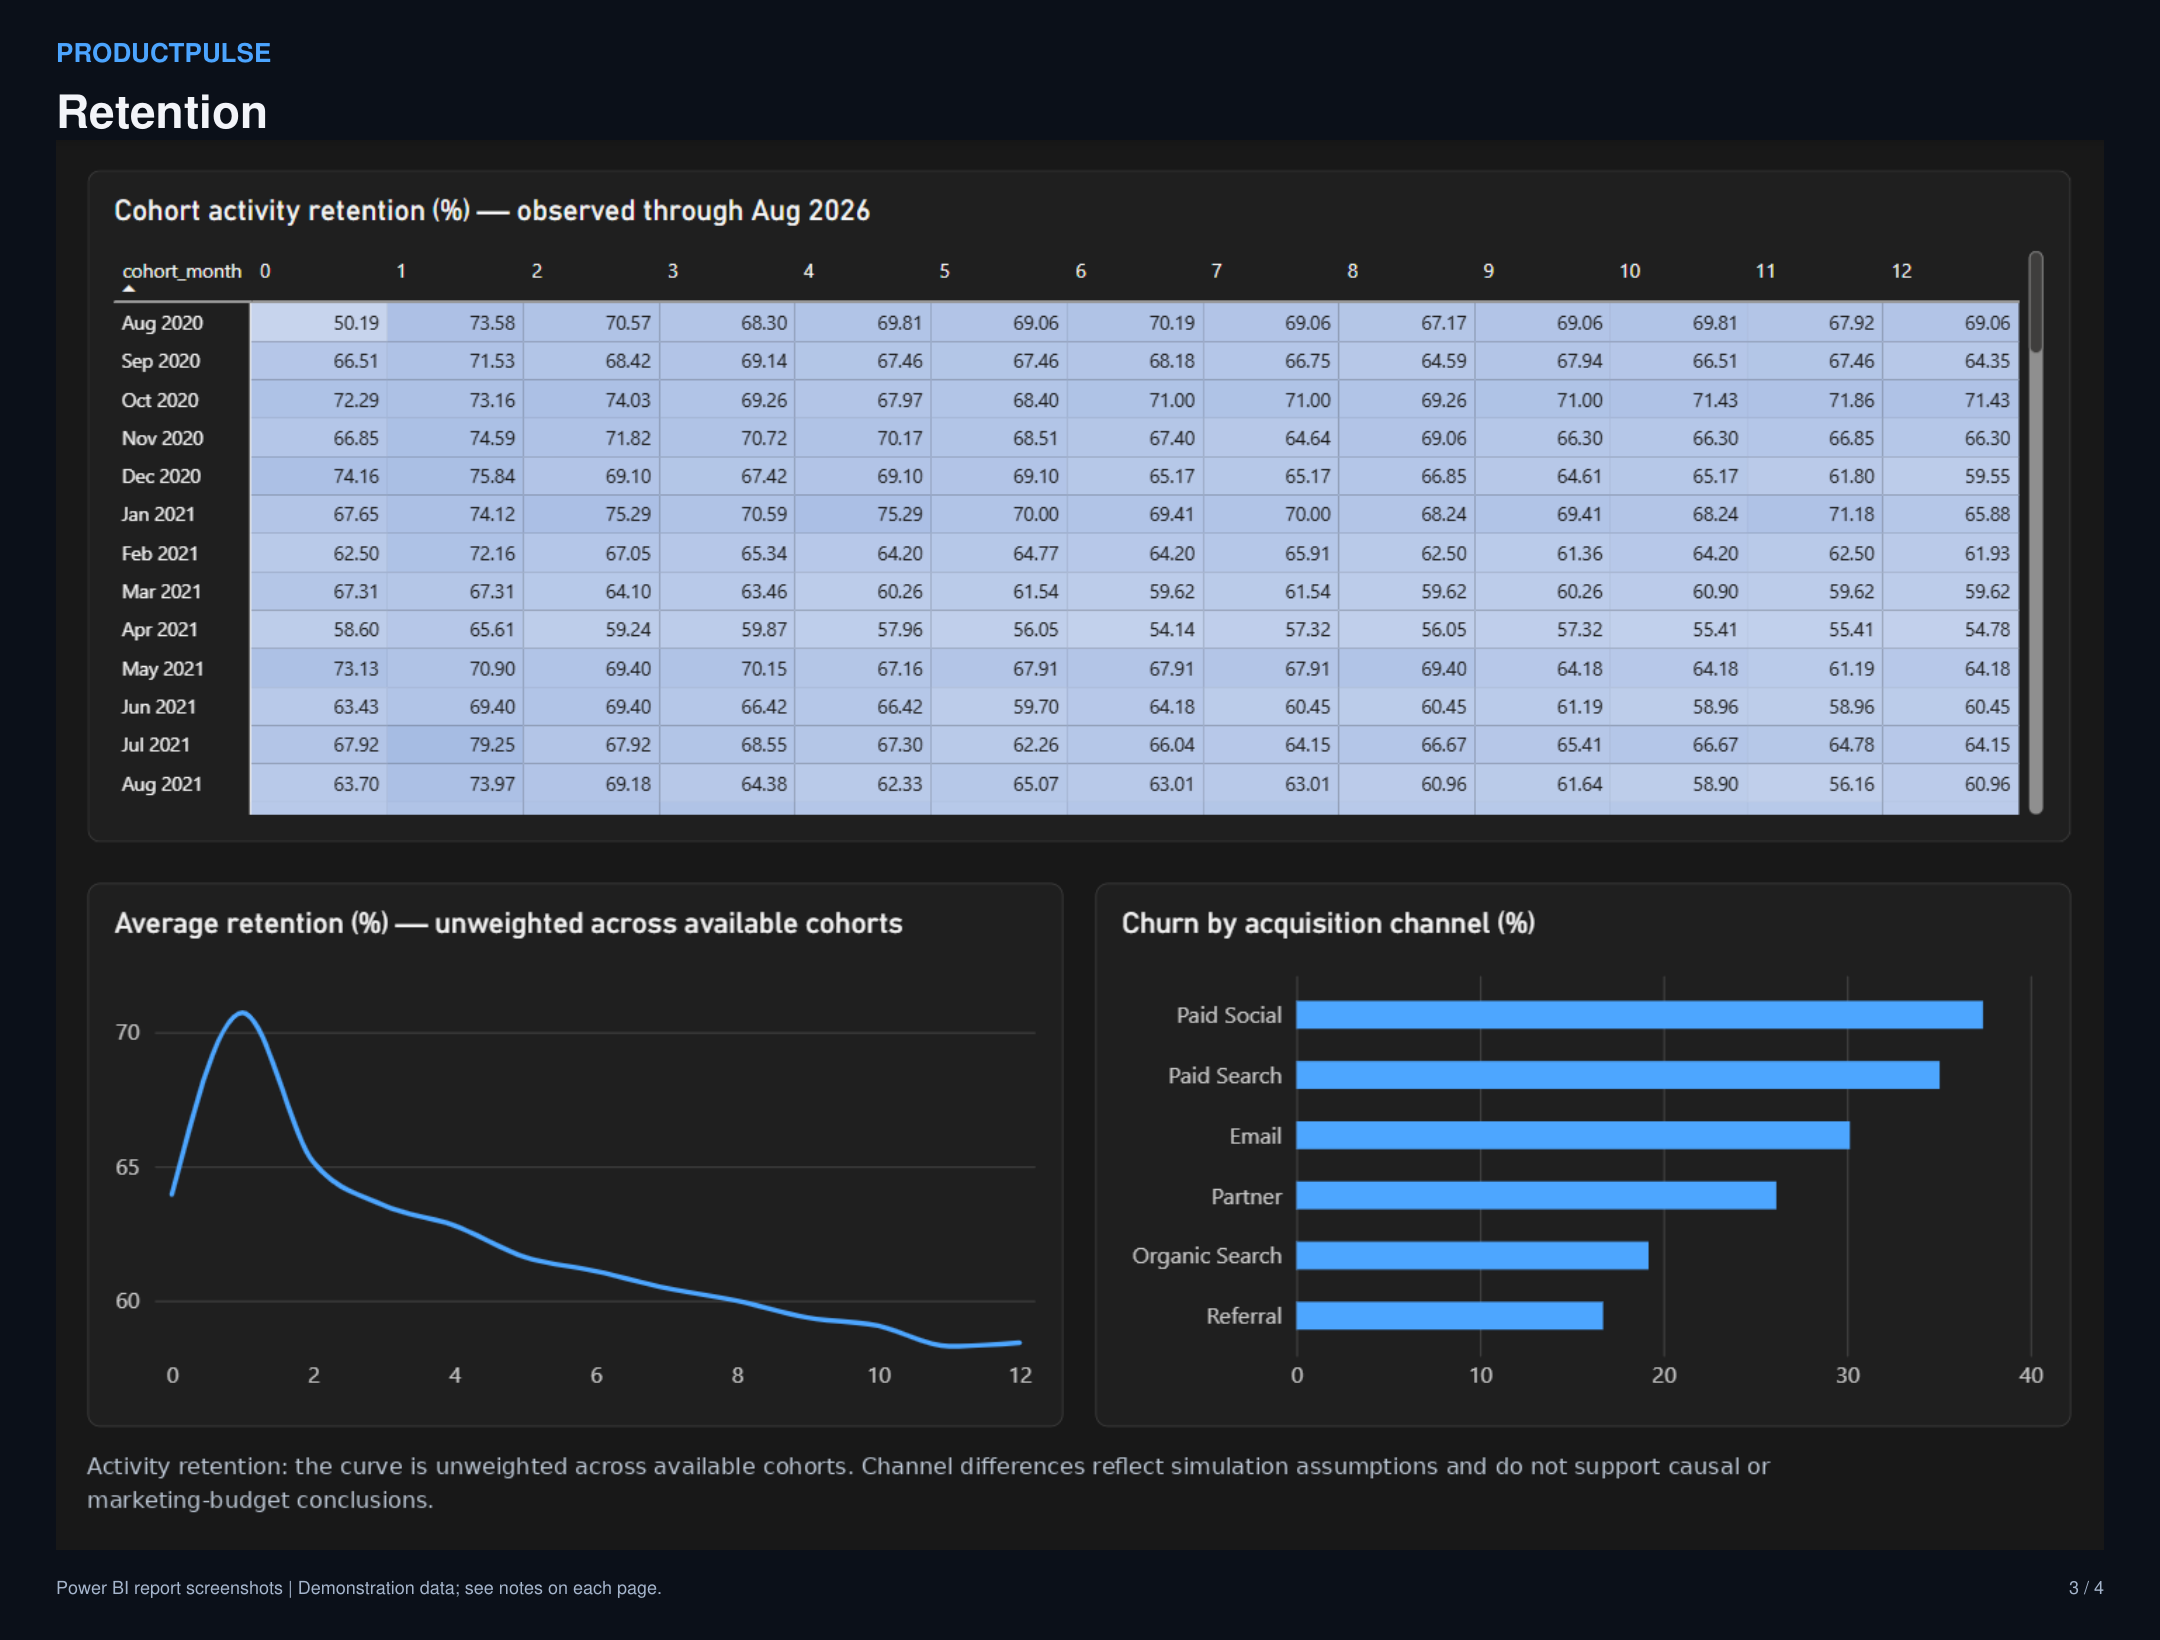

What the dashboard file says about the page in this screenshot:
{"tool":"powerbi","page":{"name":"Retention","canvas":[1280,900],"ordinal":2},"visuals":[{"type":"pivotTable","title":"Cohort activity retention (%) — observed through Aug 2026","fields":{"Rows":["cohort_month"],"Columns":["period_number"],"Values":["retention_pct"]},"box":[20,20,1240,420],"z":13},{"type":"lineChart","title":"Average retention (%) — unweighted across available cohorts","fields":{"Category":["period_number"],"Y":["retention_pct"]},"box":[20,465,610,340],"z":14},{"type":"clusteredBarChart","title":"Churn by acquisition channel (%)","fields":{"Category":["acquisition_channel"],"Y":["churn_rate_pct"]},"box":[650,465,610,340],"z":15},{"type":"textbox","box":[20,820,1240,65],"z":50}]}

Visuals, with their boxes on the page's 1280x900 design canvas (x1, y1, x2, y2). These are canvas units, not pixel positions in the 2160x1640 screenshot, which may show the page scaled, cropped or inside an application window:
"Cohort activity retention (%) — observed through Aug 2026" pivotTable: select_region(20, 20, 1260, 440)
"Average retention (%) — unweighted across available cohorts" lineChart: select_region(20, 465, 630, 805)
"Churn by acquisition channel (%)" clusteredBarChart: select_region(650, 465, 1260, 805)
textbox: select_region(20, 820, 1260, 885)
